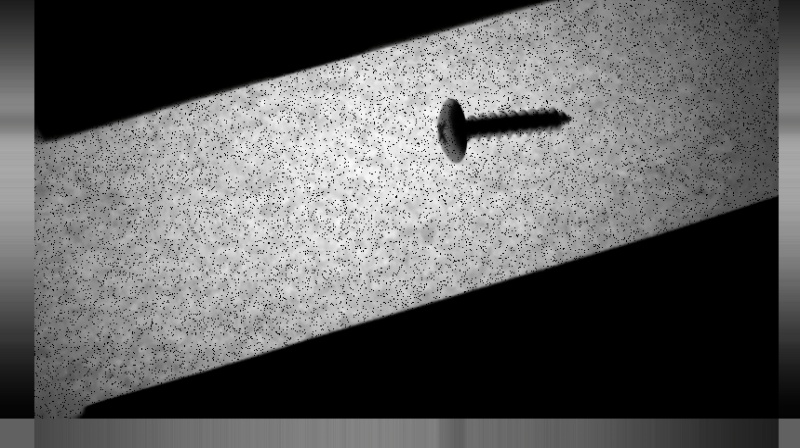S003: (433, 96, 576, 165)
